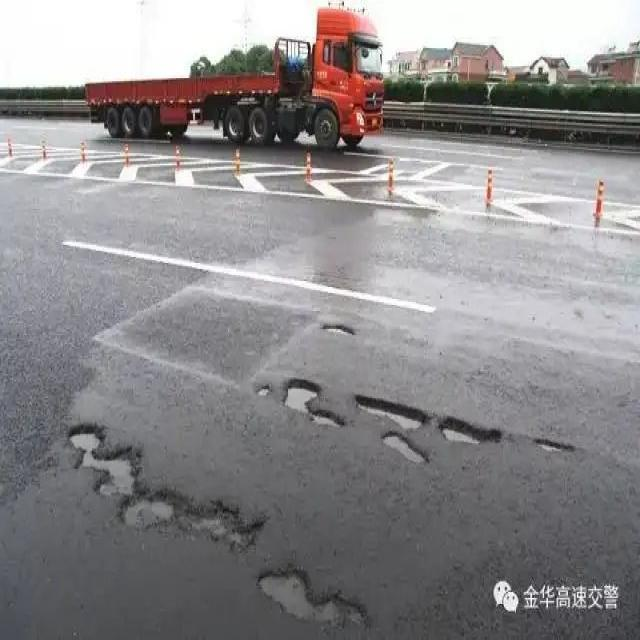Buraco: (60, 421, 275, 559), (252, 561, 373, 636), (276, 375, 351, 430), (352, 392, 431, 433), (378, 430, 435, 467), (436, 417, 504, 446), (530, 436, 578, 456), (317, 322, 359, 340), (256, 384, 272, 398)
